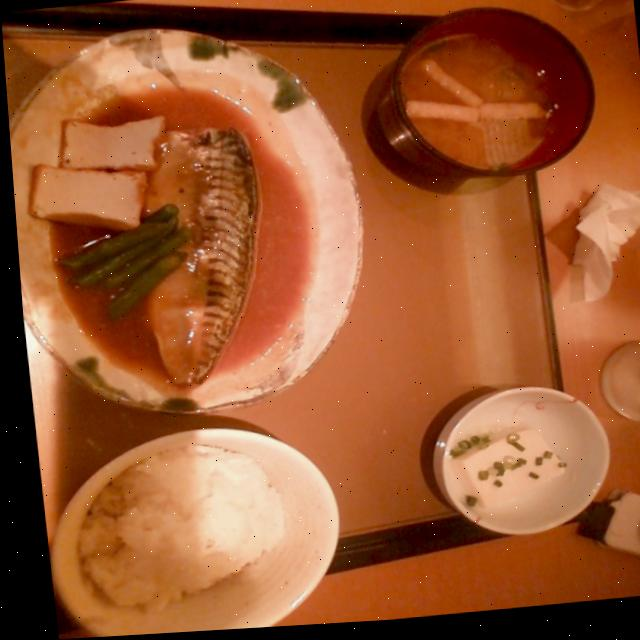米饭主食: (57, 438, 305, 622)
